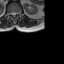CCS_normal: (12, 10, 15, 19)
LFS_normal: (17, 10, 19, 16)
LLS_normal: (15, 10, 17, 16)
RFS_normal: (9, 10, 10, 16)
RLS_normal: (10, 10, 12, 16)
